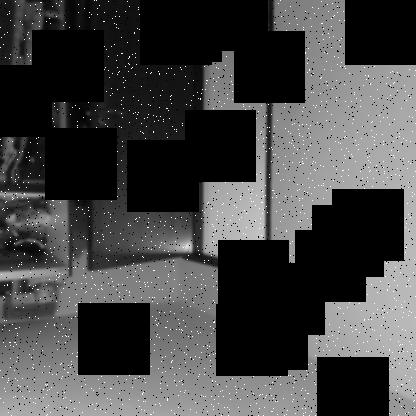Porte: (80, 0, 274, 283)
